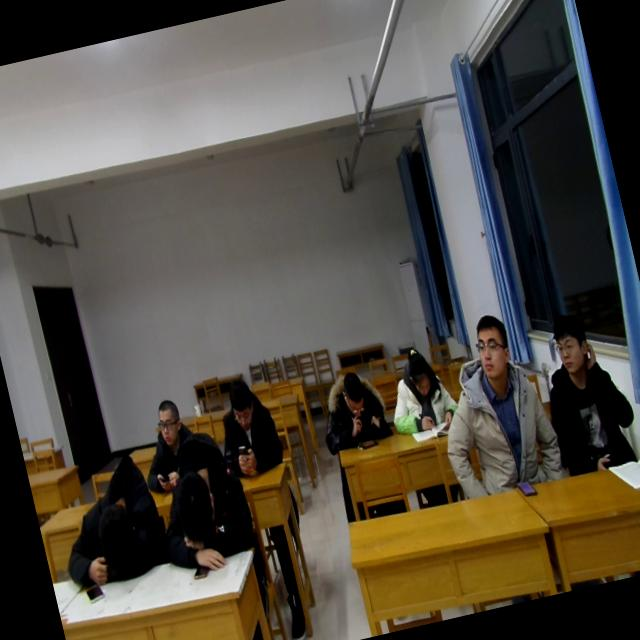bow: (144, 432, 264, 586), (45, 452, 170, 590)
down: (219, 369, 259, 432), (401, 341, 438, 398), (334, 364, 370, 420)
lookup: (464, 307, 518, 387), (544, 302, 596, 379), (149, 392, 188, 454)
sit: (418, 308, 567, 507), (530, 300, 640, 477), (308, 358, 394, 453), (378, 342, 459, 442), (132, 392, 209, 492), (212, 376, 284, 478)
